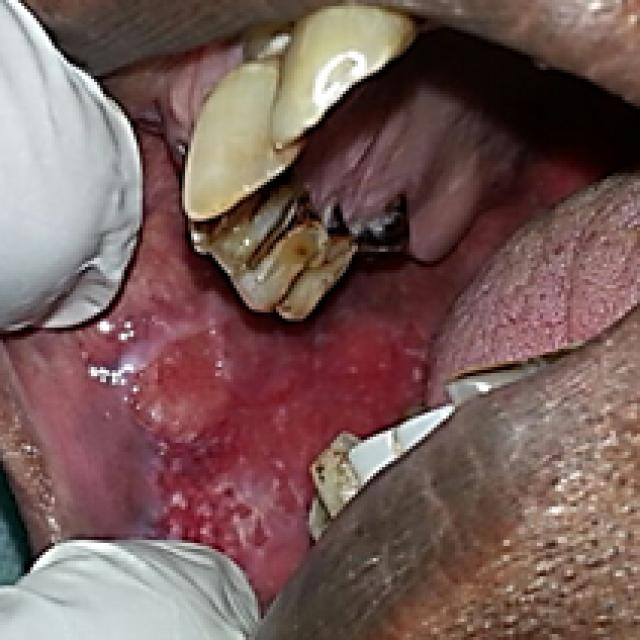cancer-detection: (65, 126, 430, 614)
processing_area: (0, 33, 637, 621)
